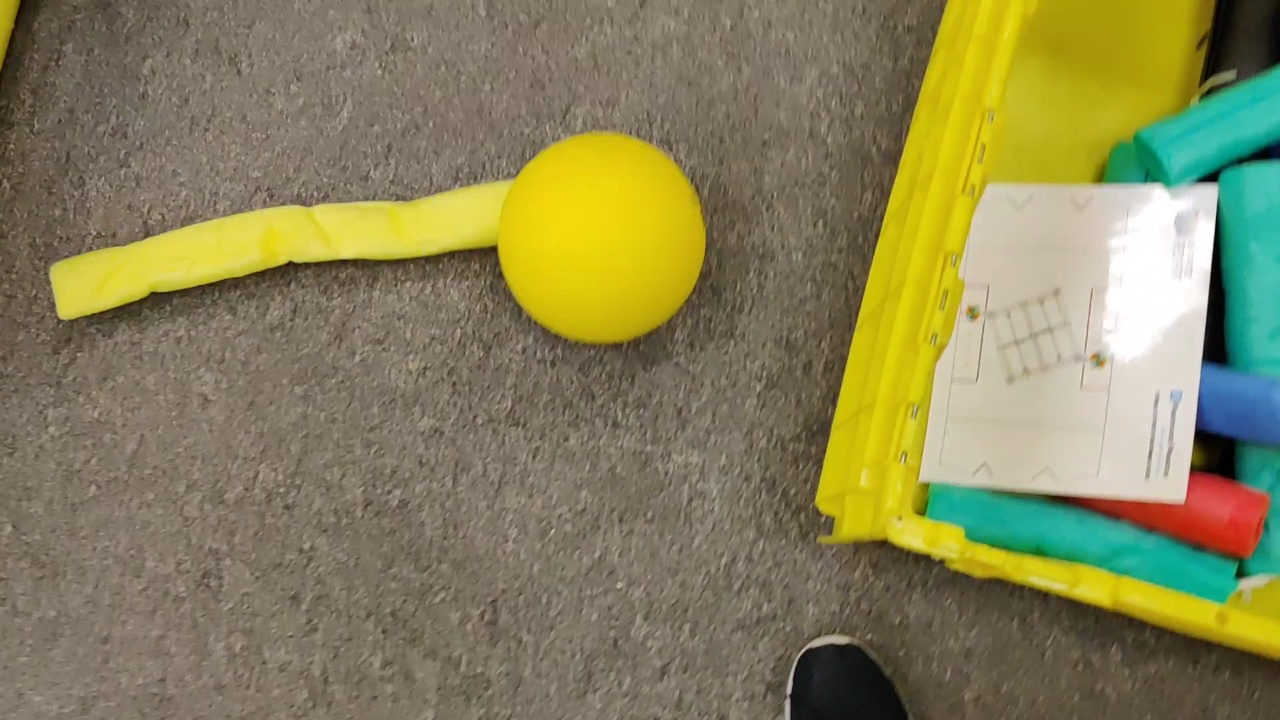Ball: (501, 131, 703, 333)
